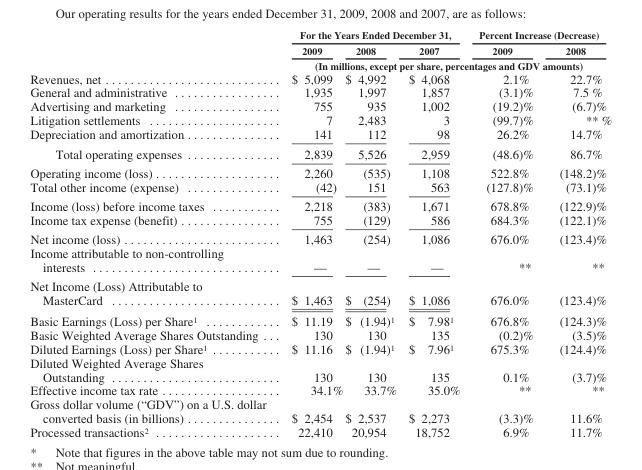table: (29, 28, 611, 438)
table column: (29, 28, 278, 438), (468, 28, 545, 438), (402, 28, 468, 438), (545, 28, 611, 438), (278, 28, 343, 438), (343, 28, 402, 438)
table column header: (29, 28, 611, 71)
table row: (29, 275, 611, 309), (29, 245, 611, 275), (29, 355, 611, 383), (29, 397, 611, 424), (29, 143, 611, 163), (29, 309, 611, 327), (29, 126, 611, 143), (29, 179, 611, 196), (29, 212, 611, 229), (29, 163, 611, 179), (29, 196, 611, 212), (29, 229, 611, 245), (29, 42, 611, 57), (29, 28, 611, 42), (29, 57, 611, 71), (29, 71, 611, 85), (29, 85, 611, 99), (29, 99, 611, 113), (29, 327, 611, 341), (29, 341, 611, 355), (29, 383, 611, 397), (29, 424, 611, 438), (29, 113, 611, 126)
table spanning cell: (278, 57, 611, 71), (278, 28, 468, 42), (468, 28, 611, 42)
